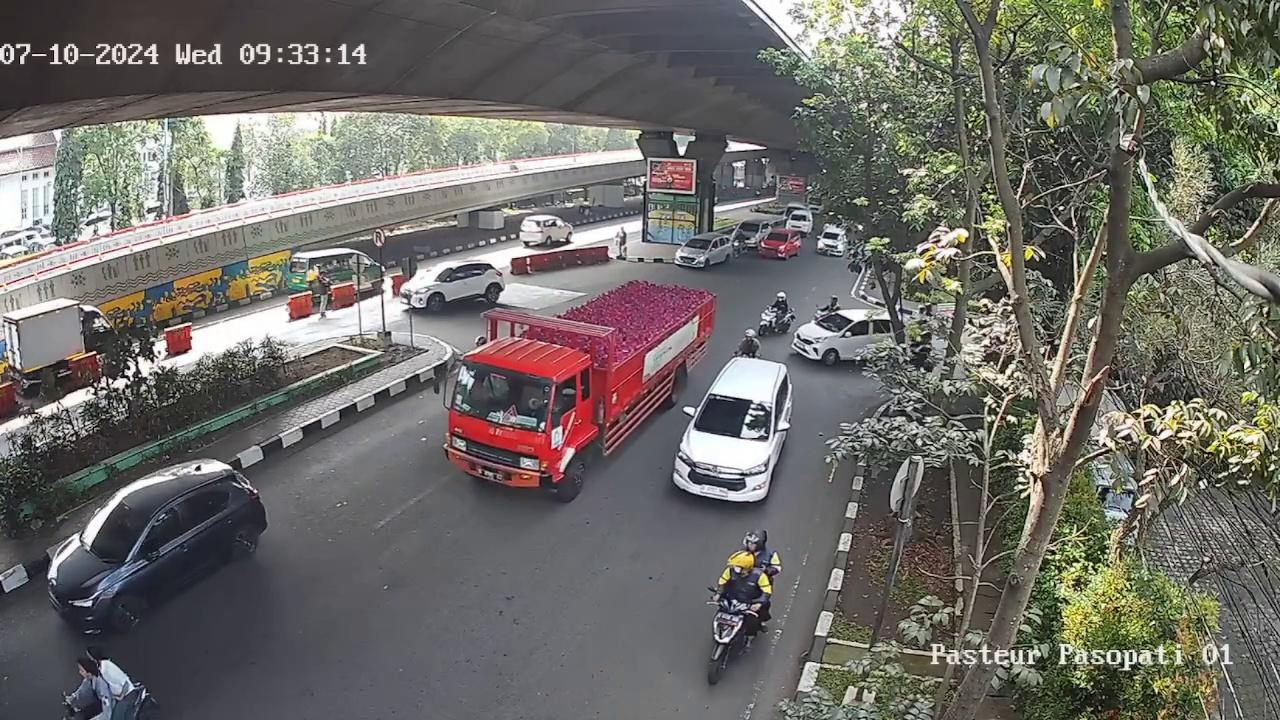pakai: (479, 374, 512, 402)
windshield: (447, 359, 561, 432), (80, 492, 149, 561), (695, 393, 777, 438)
